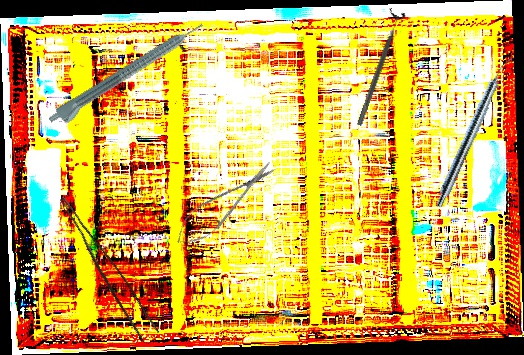Fixation Ring: (350, 7, 407, 129)
Handpiece: (46, 18, 210, 133), (432, 52, 515, 211)
Micro Scissor: (167, 153, 283, 255)
Tissue Forceps: (44, 196, 164, 344)
